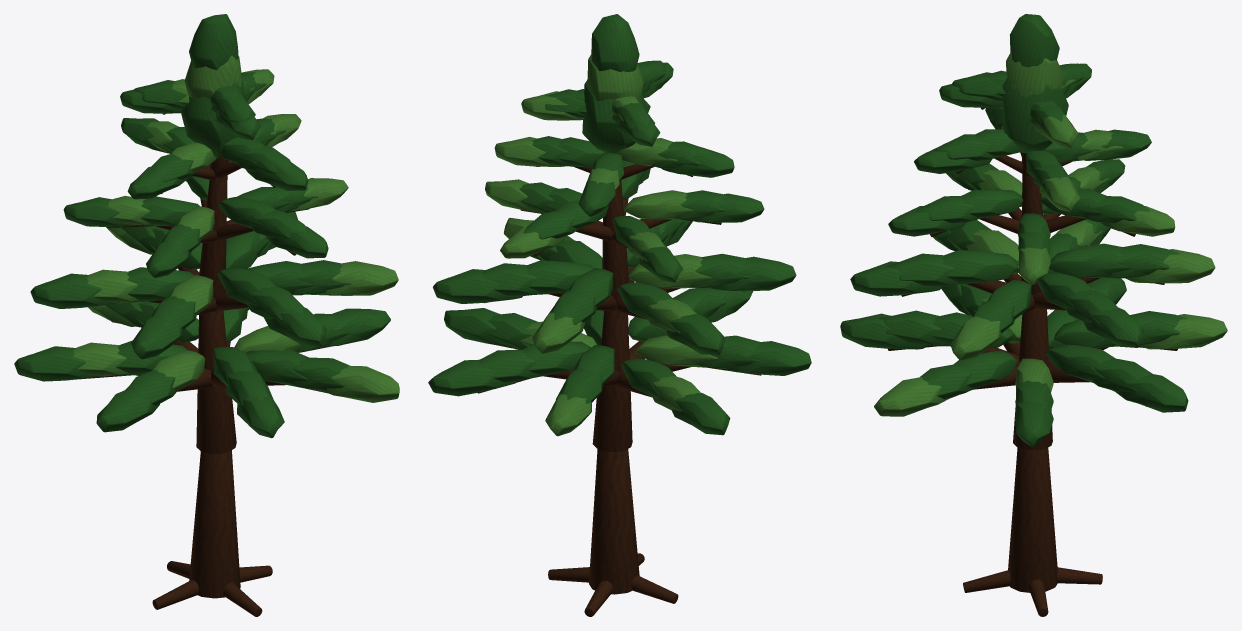
Rendered from prop_tree_03.glb.
3 renders of one model, left to right at view 1: azimuth 30°, elevation 25°; view 2: azimuth 150°, elevation 25°; view 3: azimuth 270°, elevation 25°, orthographic.
Visible parts, largest first — view 1: PineTrunk_00, PineTrunk_01, PineCrown_02, PineNeedles_00_03_02, PineNeedles_00_06_02, PineNeedles_01_02_02, PineCrown_00, PineTrunk_02, PineNeedles_01_05_02, PineNeedles_00_04_02, PineCrown_01, PineNeedles_00_00_02 (+53 smaller); view 2: PineTrunk_00, PineTrunk_01, PineCrown_02, PineCrown_00, PineNeedles_00_01_02, PineNeedles_00_04_02, PineNeedles_01_00_02, PineNeedles_01_03_02, PineNeedles_00_03_02, PineTrunk_02, PineCrown_01, PineNeedles_01_02_02 (+49 smaller); view 3: PineTrunk_00, PineCrown_00, PineCrown_02, PineNeedles_01_01_00, PineNeedles_01_04_00, PineTrunk_01, PineNeedles_00_06_02, PineNeedles_00_01_02, PineNeedles_01_04_02, PineNeedles_00_02_02, PineNeedles_01_01_02, PineCrown_01 (+52 smaller).
Part boxes in pixels (bbox=[...]): PineTrunk_00: bbox=[189, 450, 240, 598]; PineTrunk_01: bbox=[196, 310, 236, 453]; PineCrown_02: bbox=[189, 14, 238, 70]; PineNeedles_00_03_02: bbox=[14, 346, 103, 381]; PineNeedles_00_06_02: bbox=[321, 365, 399, 402]; PineNeedles_01_02_02: bbox=[30, 273, 119, 308]; PineCrown_00: bbox=[181, 82, 245, 158]; PineTrunk_02: bbox=[199, 175, 227, 298]; PineNeedles_01_05_02: bbox=[317, 261, 398, 295]; PineNeedles_00_04_02: bbox=[96, 390, 159, 432]; PineCrown_01: bbox=[184, 55, 242, 98]; PineNeedles_00_00_02: bbox=[323, 308, 390, 347]; PineTrunk_00: bbox=[589, 449, 639, 594]; PineTrunk_01: bbox=[592, 310, 632, 452]; PineCrown_02: bbox=[591, 14, 639, 72]; PineCrown_00: bbox=[582, 79, 647, 153]; PineNeedles_00_01_02: bbox=[428, 359, 516, 396]; PineNeedles_00_04_02: bbox=[725, 341, 811, 375]; PineNeedles_01_00_02: bbox=[433, 269, 522, 303]; PineNeedles_01_03_02: bbox=[711, 256, 796, 290]; PineNeedles_00_03_02: bbox=[671, 392, 730, 435]; PineTrunk_02: bbox=[602, 180, 629, 310]; PineCrown_01: bbox=[587, 54, 643, 101]; PineNeedles_01_02_02: bbox=[666, 314, 725, 355]; PineTrunk_00: bbox=[1008, 447, 1057, 592]; PineCrown_00: bbox=[1002, 77, 1068, 153]; PineCrown_02: bbox=[1010, 14, 1059, 67]; PineNeedles_01_01_00: bbox=[1049, 243, 1130, 277]; PineNeedles_01_04_00: bbox=[942, 249, 1018, 284]; PineTrunk_01: bbox=[1013, 308, 1052, 450]; PineNeedles_00_06_02: bbox=[874, 377, 951, 416]; PineNeedles_00_01_02: bbox=[1115, 374, 1188, 412]; PineNeedles_01_04_02: bbox=[850, 261, 942, 296]; PineNeedles_00_02_02: bbox=[1140, 314, 1227, 349]; PineNeedles_01_01_02: bbox=[1125, 249, 1215, 283]; PineCrown_01: bbox=[1006, 51, 1064, 97].
Bounding box in the file's own units: 3.38 × 5.63 × 3.45.
Materials: 3 (3 with a texture image).
